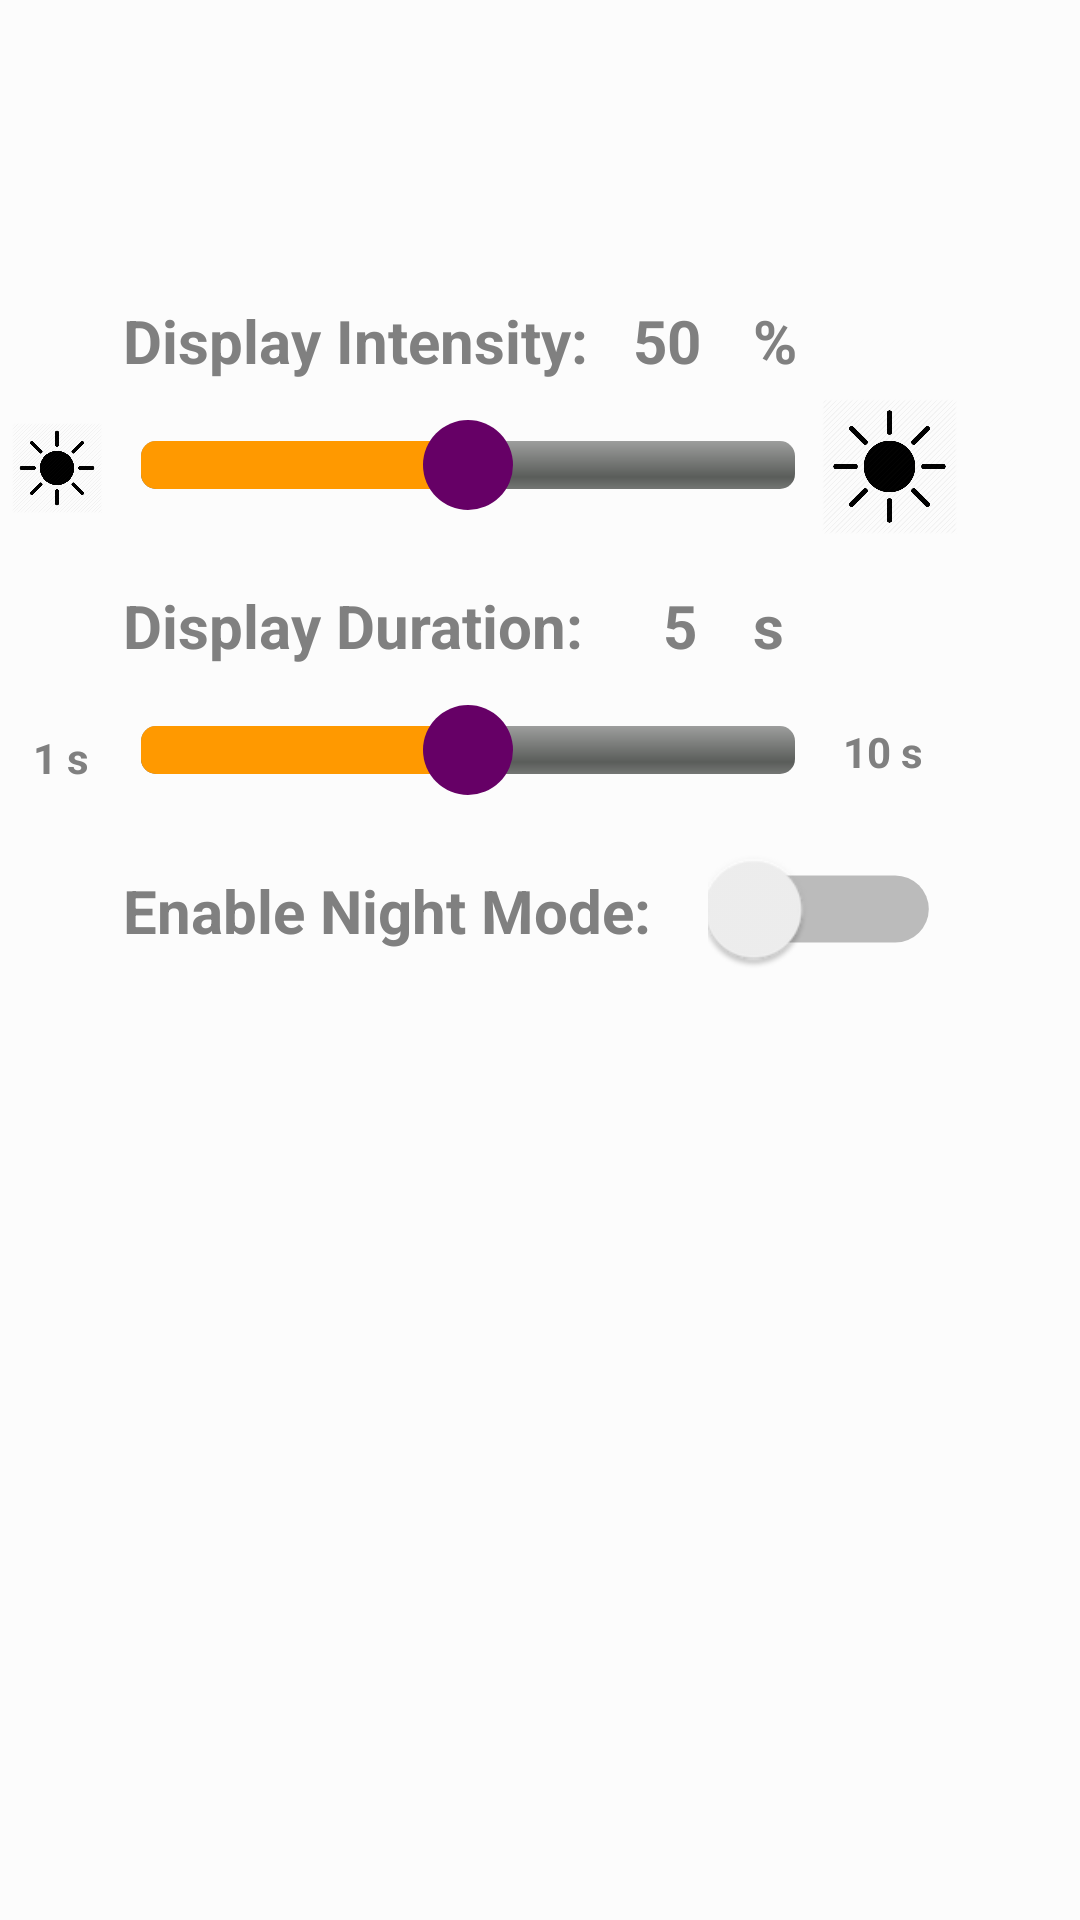

Icons on this 1080 × 1920 Android screen, each with its box as detection(x1, y1, x2, y2):
bright: detection(833, 410, 946, 523), detection(19, 430, 95, 506)
